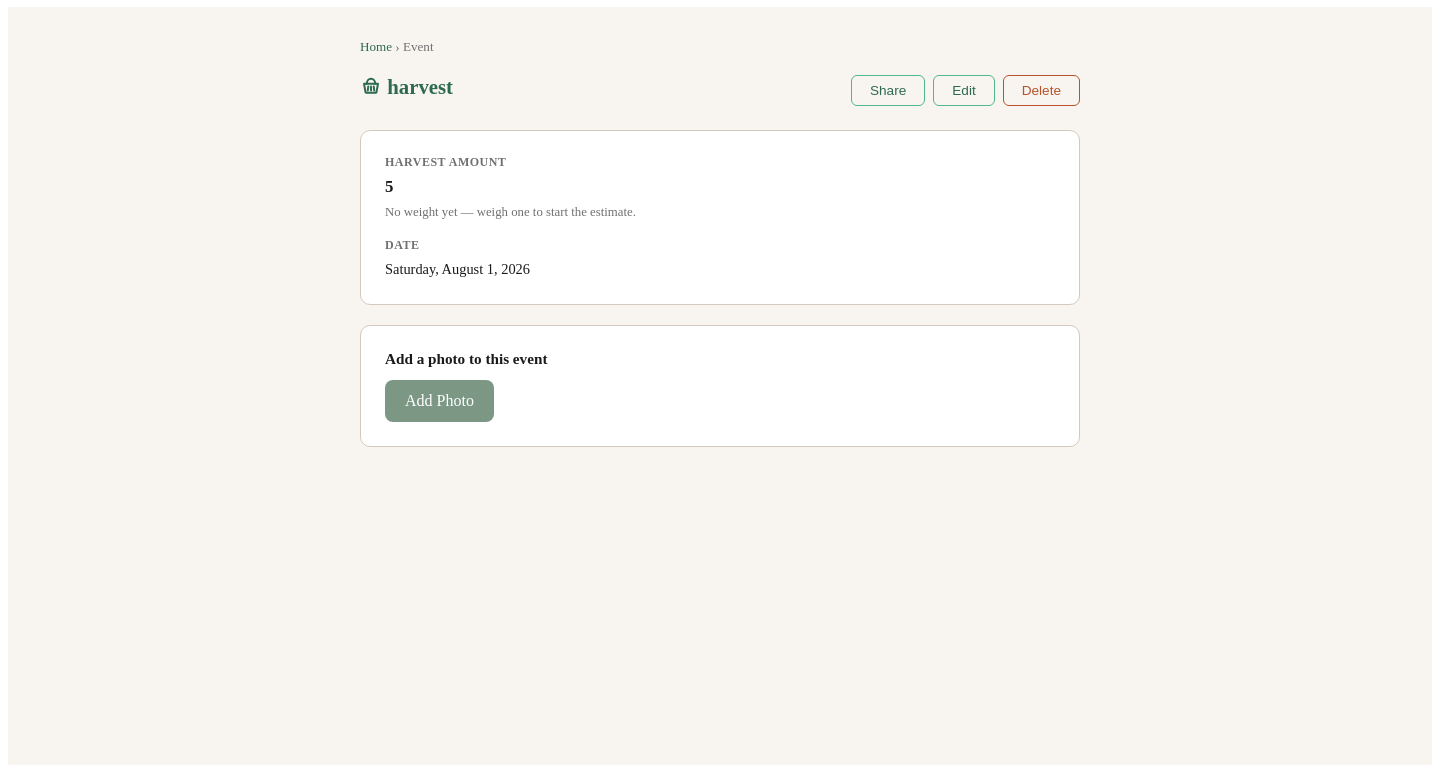
Test: EventDetail — weight validation blocks the round trip › rejects a zero or negative weight without PATCHing
Click the button "Edit". click: (964, 90)
box: [933,75,995,106]
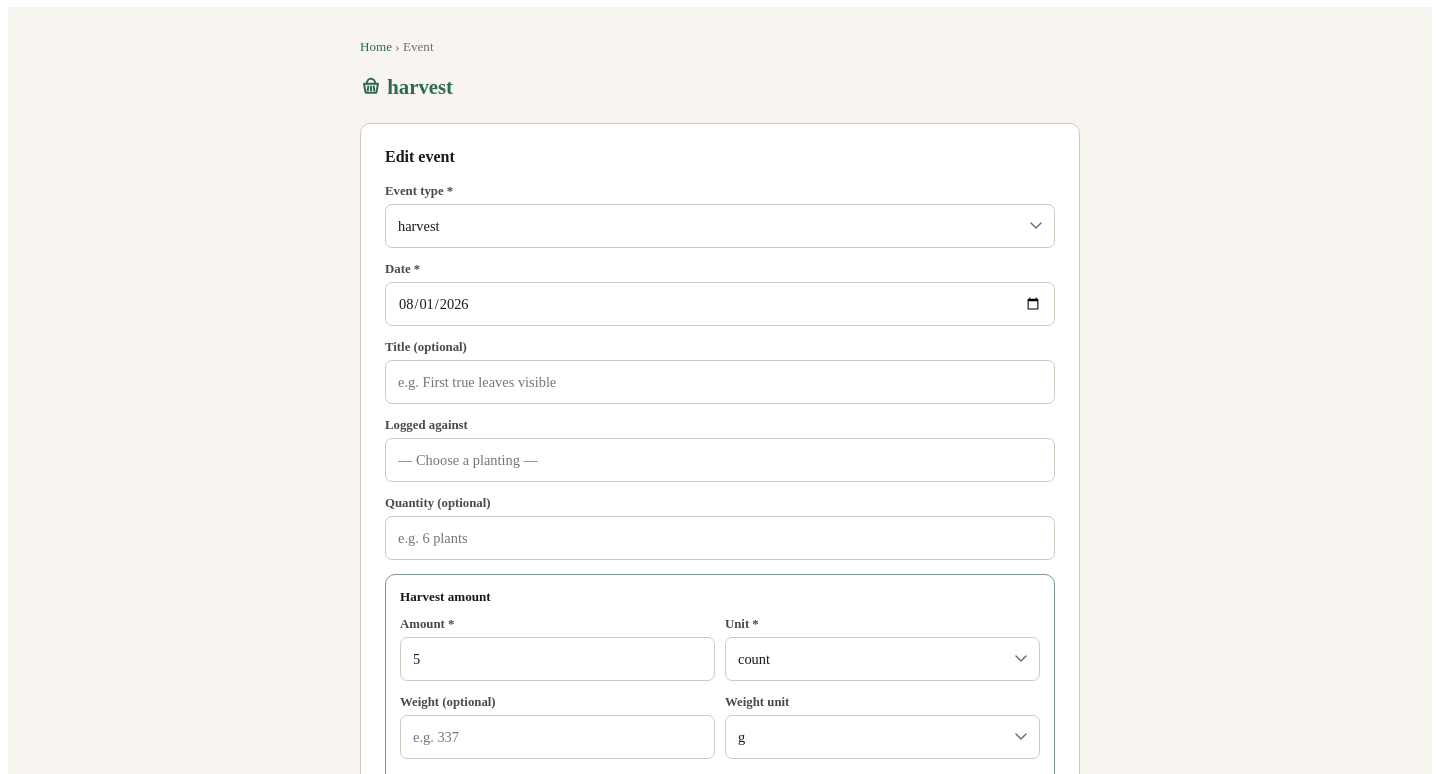
Type "0" into the number field labelled "Weight (optional)". click: (558, 737)
box: [400,715,715,759]
(page scrolled)
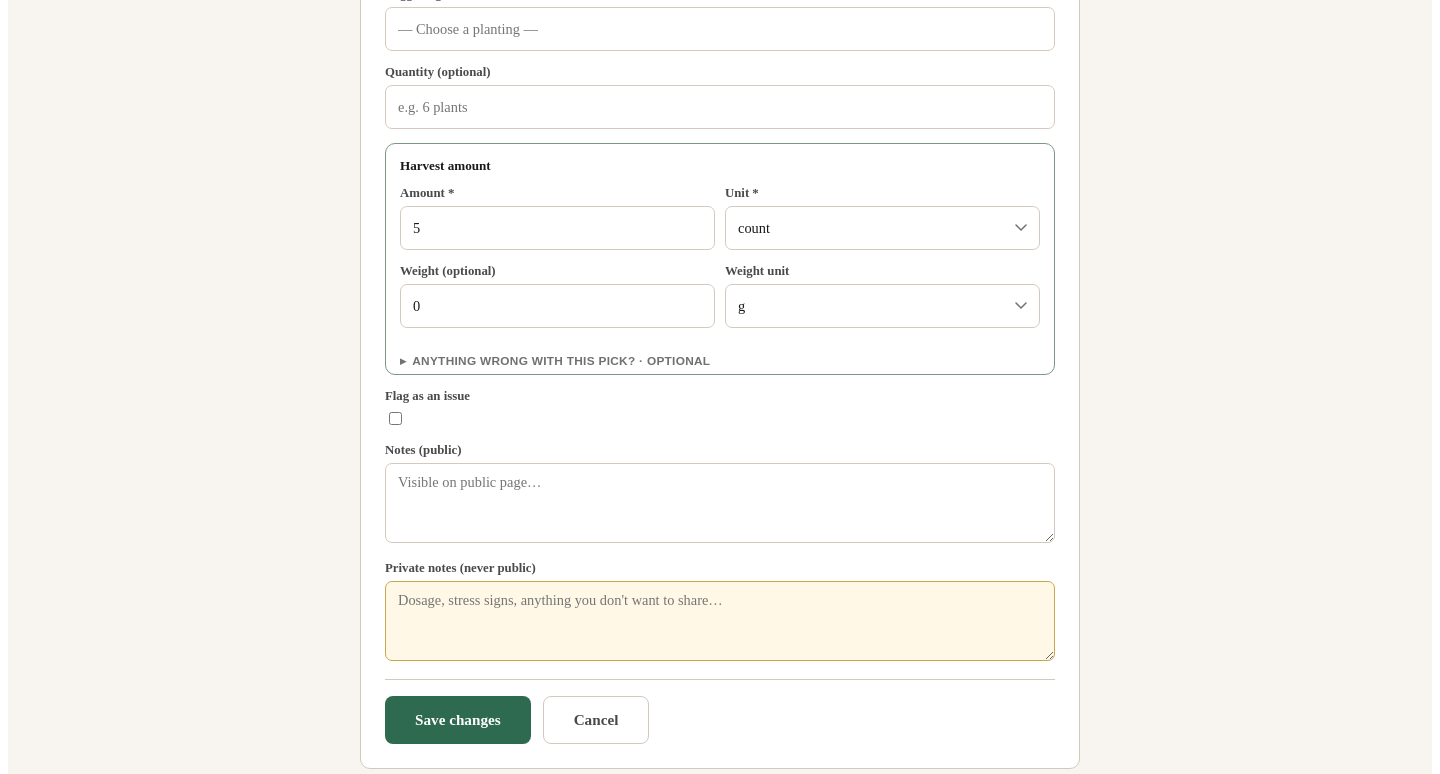
Click the button "Save changes". click: (458, 720)
box: [385,696,531,744]
(page scrolled)
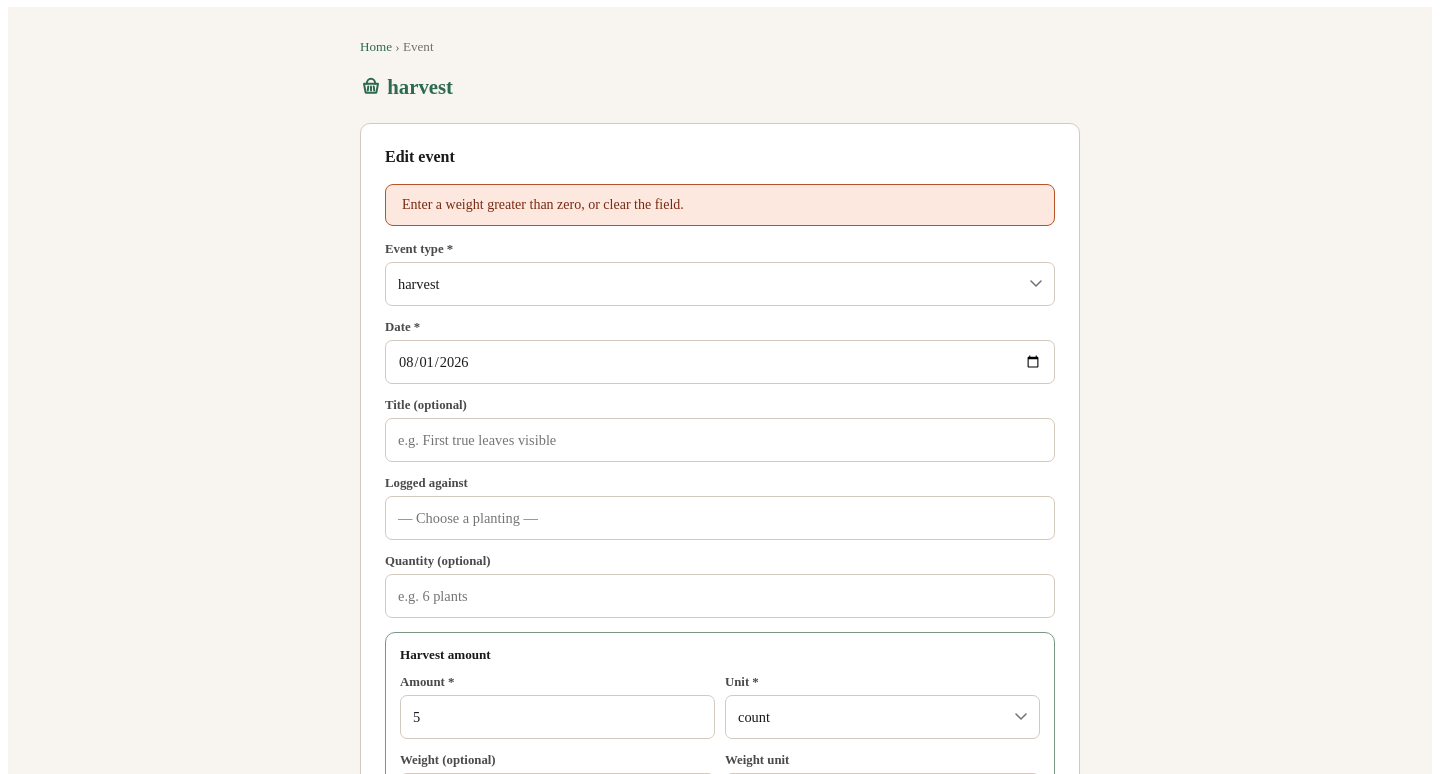
expect the text "Enter a weight greater than zero, or clear the field." is shown: met, box [385,184,1055,226]
